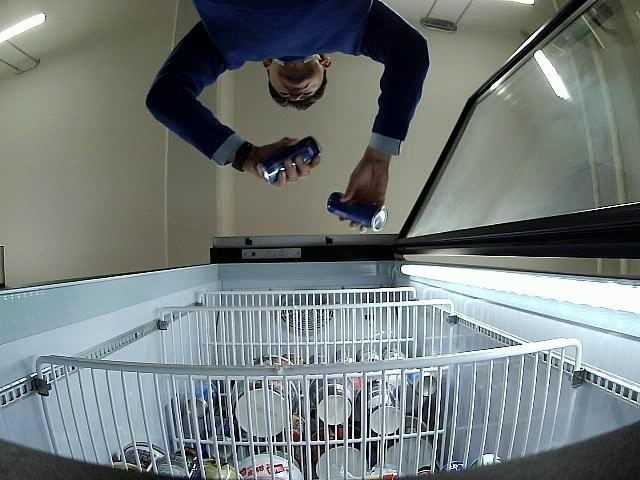16_hot6: (256, 136, 322, 184), (327, 192, 389, 231)
